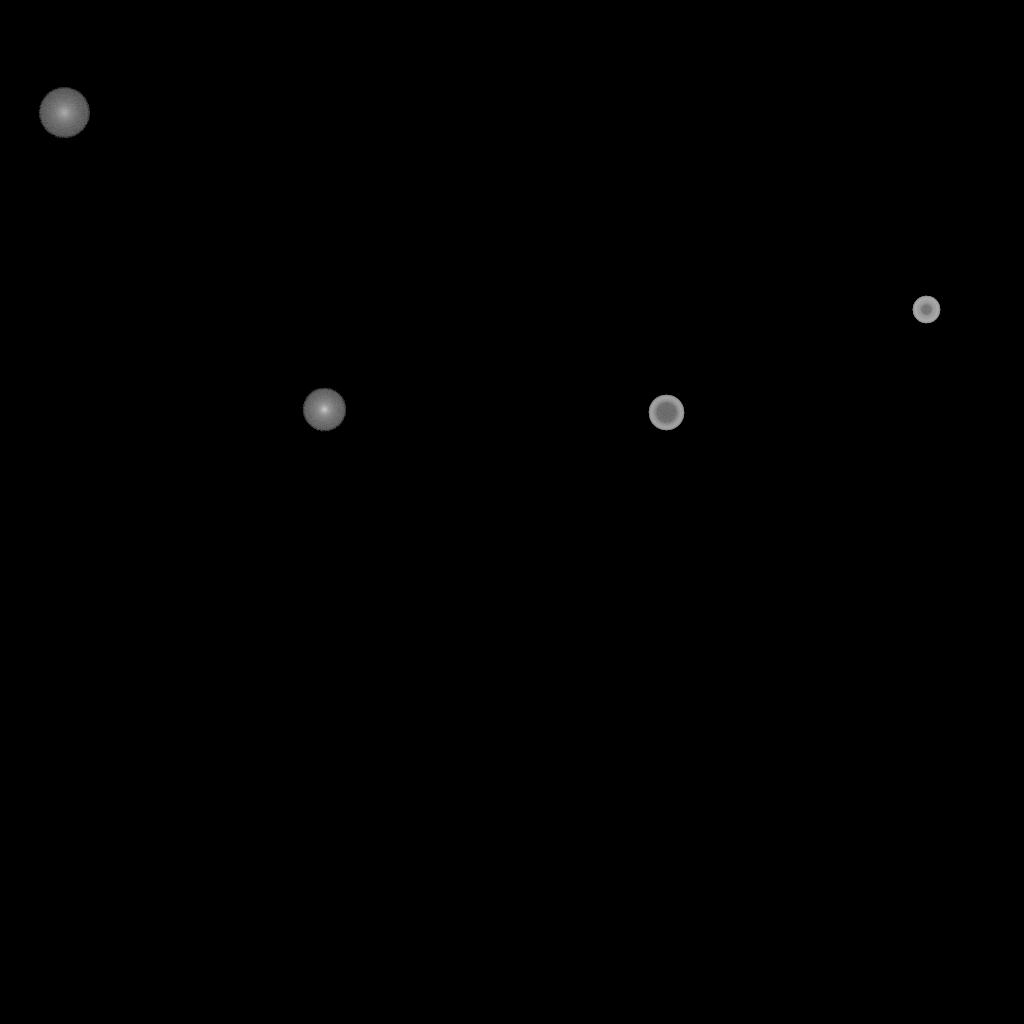depth:-50: (912, 296, 940, 324)
depth:-60: (648, 395, 684, 431)
depth:10: (302, 388, 346, 432)
depth:20: (38, 88, 90, 138)
